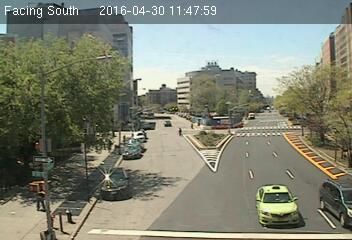neg: (128, 182, 148, 208), (205, 166, 222, 188), (321, 144, 338, 166), (111, 168, 127, 189), (282, 188, 297, 208), (48, 210, 62, 229), (160, 119, 171, 134), (131, 140, 142, 155)
pos: (30, 187, 49, 212), (104, 139, 115, 153), (177, 127, 185, 137), (189, 122, 196, 131)
